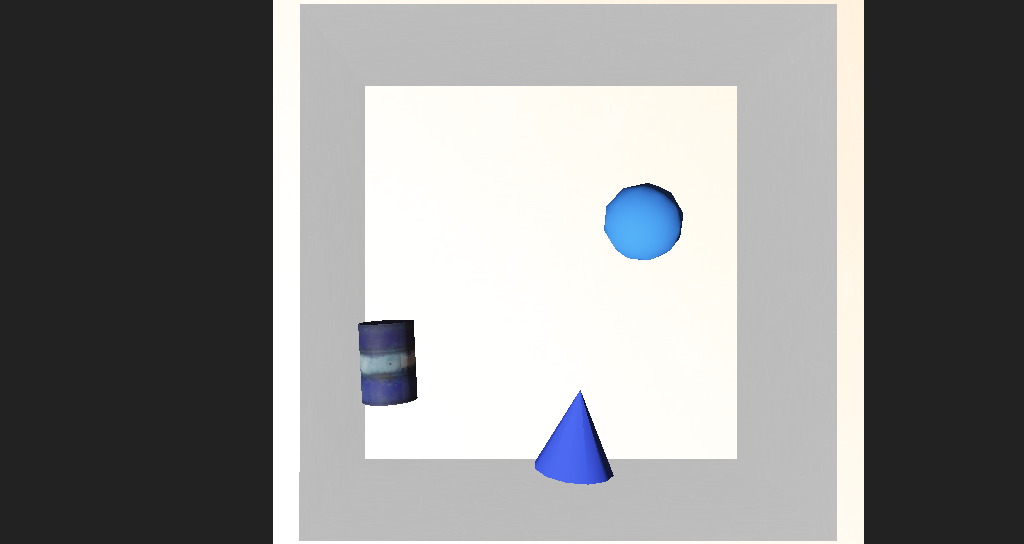cone: (344, 296, 397, 344)
cylinder: (485, 329, 566, 387)
sphere: (549, 215, 610, 262)
